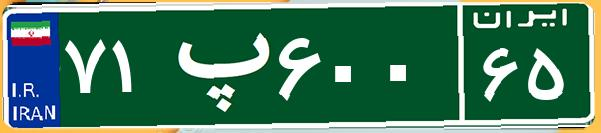0: (385, 28, 445, 110), (330, 28, 385, 110)
1: (110, 28, 158, 105)
5: (525, 38, 570, 115)
6: (273, 28, 330, 110), (475, 38, 525, 113)
7: (57, 26, 110, 107)
پ: (158, 15, 273, 115)
